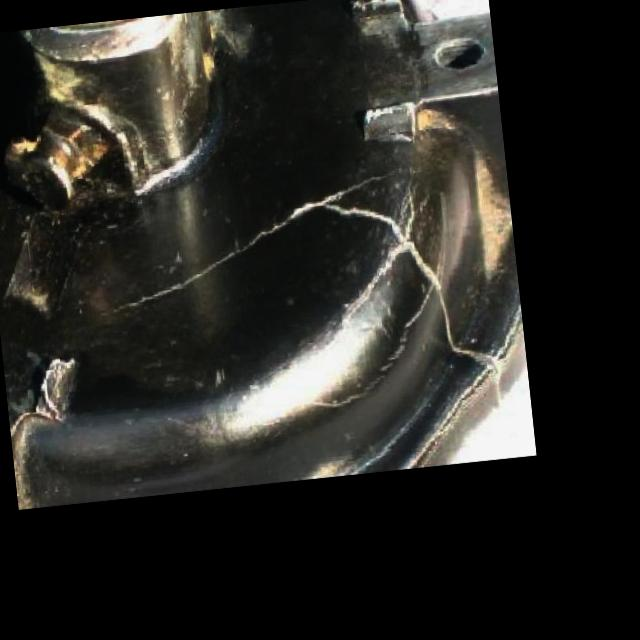crack: (220, 205, 318, 260), (120, 264, 220, 310), (324, 196, 402, 243), (315, 176, 381, 200), (435, 284, 458, 349), (408, 237, 436, 284)
